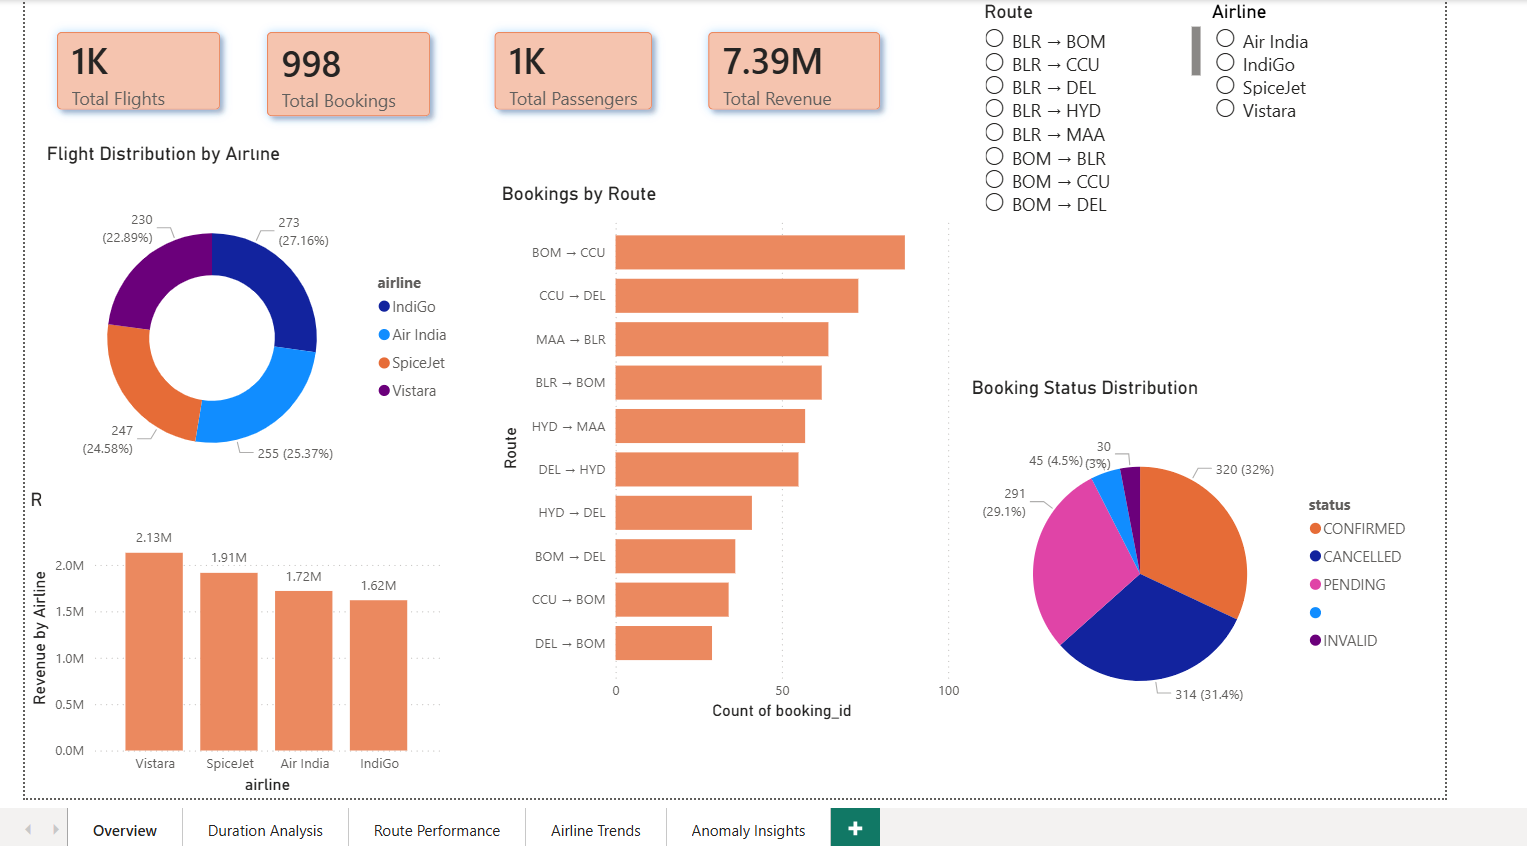

This screenshot's page, from the dashboard's own definition file:
{"tool":"powerbi","page":{"name":"Overview","canvas":[1280,720],"ordinal":0},"visuals":[{"type":"clusteredColumnChart","title":"Revenue by Airline","fields":{"Category":["airlines_dw valid_booking_flights.airline"],"Y":["airlines_dw payments.Revenue by Airline"]},"box":[0,440.2,379.1,280],"z":0},{"type":"clusteredBarChart","title":"Bookings by Route","fields":{"Category":["airlines_dw valid_booking_flights.Route"],"Y":["CountNonNull(airlines_dw valid_booking_flights.booking_id)"]},"box":[425.4,164.7,422.6,489.9],"z":2000},{"type":"donutChart","title":"Flight Distribution by Airline","fields":{"Category":["airlines_dw flights.airline"],"Y":["CountNonNull(airlines_dw flights.flight_key)"]},"box":[14.7,128.4,380.3,333.8],"z":3000},{"type":"pieChart","title":"Booking Status Distribution","fields":{"Category":["airlines_dw bookings.status"],"Y":["CountNonNull(airlines_dw bookings.booking_id)"]},"box":[848.6,338.7,410.9,337.5],"z":3001},{"type":"cardVisual","fields":{"Data":["airlines_dw flights.Total Flights"]},"box":[0,0,205.4,128.4],"z":3002},{"type":"cardVisual","fields":{"Data":["airlines_dw valid_booking_flights.Total Bookings"]},"box":[189.5,0,205.4,134.5],"z":3003},{"type":"cardVisual","fields":{"Data":["airlines_dw passengers.Total Passengers"]},"box":[395,0,200.5,128.4],"z":3004},{"type":"cardVisual","fields":{"Data":["airlines_dw payments.Total Revenue"]},"box":[587,0,214,128.4],"z":3005},{"type":"listSlicer","title":"Airline","fields":{"Values":["airlines_dw valid_booking_flights.airline"]},"box":[1065.1,0,204.2,198.1],"z":3006},{"type":"listSlicer","fields":{"Values":["airlines_dw valid_booking_flights.Route"]},"box":[859.7,0,205.4,198.1],"z":3007}]}

Visuals, with their boxes on the page's 1280x720 design canvas (x1, y1, x2, y2). These are canvas units, not pixel positions in the 1527x846 screenshot, which may show the page scaled, cropped or inside an application window:
"Revenue by Airline" clusteredColumnChart: select_region(0, 440, 379, 720)
"Bookings by Route" clusteredBarChart: select_region(425, 165, 848, 655)
"Flight Distribution by Airline" donutChart: select_region(15, 128, 395, 462)
"Booking Status Distribution" pieChart: select_region(849, 339, 1260, 676)
cardVisual - airlines_dw flights.Total Flights: select_region(0, 0, 205, 128)
cardVisual - airlines_dw valid_booking_flights.Total Bookings: select_region(190, 0, 395, 134)
cardVisual - airlines_dw passengers.Total Passengers: select_region(395, 0, 596, 128)
cardVisual - airlines_dw payments.Total Revenue: select_region(587, 0, 801, 128)
"Airline" listSlicer: select_region(1065, 0, 1269, 198)
listSlicer - airlines_dw valid_booking_flights.Route: select_region(860, 0, 1065, 198)
